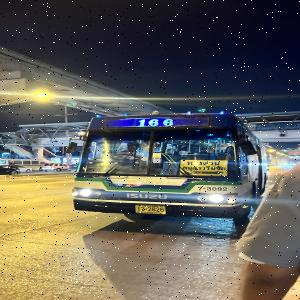BMTA-bus: (71, 112, 264, 219)
Bus Line Number: (135, 118, 176, 127)
Bus Side Number: (195, 184, 231, 192)
Destination Sign: (179, 159, 228, 177)
